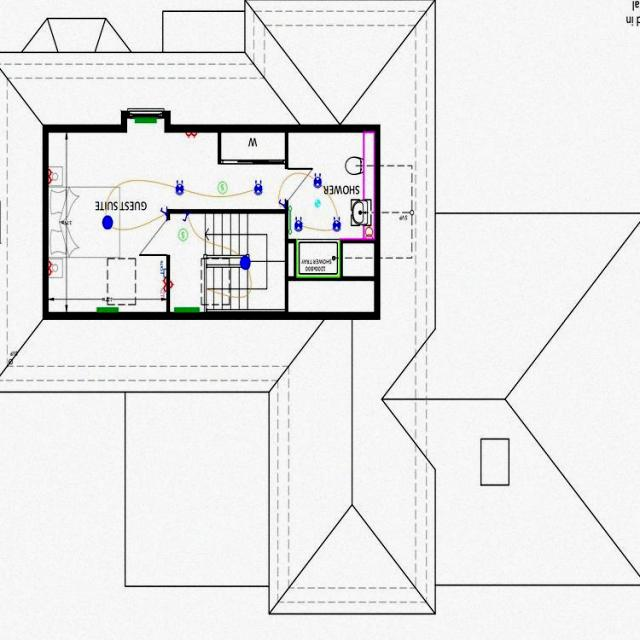Cat 6 Data Socket: (158, 260, 167, 278)
Ceiling Mounted Continuous Extract FanWith Boost Mode Activated By Light Switch: (316, 201, 322, 209)
Double Socket: (161, 280, 168, 292), (186, 134, 198, 140), (50, 261, 54, 277), (50, 170, 54, 184)
Full Height Tiling: (296, 242, 342, 279)
Light Switch: (278, 199, 287, 208), (182, 215, 191, 224), (160, 207, 168, 217)
Low Energy Downlighter: (314, 172, 323, 190), (254, 180, 264, 196), (294, 218, 304, 233), (177, 180, 185, 196), (334, 218, 342, 232)
Low Energy Pendant Light: (240, 257, 252, 270), (104, 216, 115, 230)
Mains Wired Smoke Detector: (218, 182, 228, 195), (180, 230, 190, 242)
Radiator: (175, 308, 201, 314), (98, 307, 120, 314), (134, 118, 158, 124)
Shaver Socket: (364, 226, 374, 241)
Single Socket: (170, 280, 176, 290), (162, 293, 167, 300)
